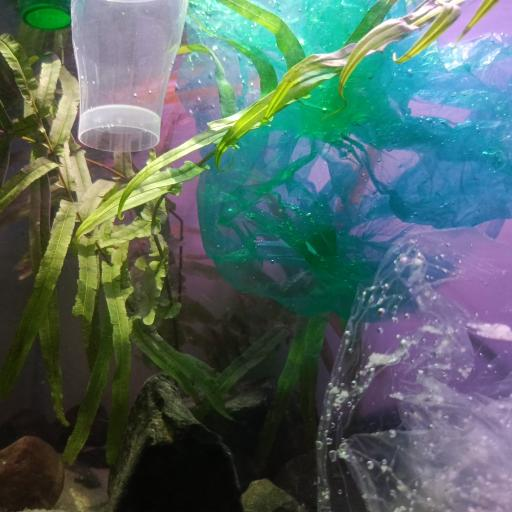bottle_cap: (18, 0, 70, 31)
plastic_bag: (175, 0, 512, 320), (315, 227, 512, 512)
plastic_cup: (73, 0, 188, 152)
